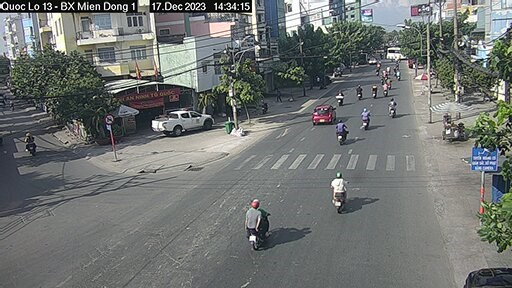car: (149, 103, 212, 138), (315, 99, 338, 128)
motorbike: (244, 197, 277, 249), (332, 171, 353, 213), (327, 117, 350, 145), (353, 106, 371, 131), (22, 129, 37, 155)
